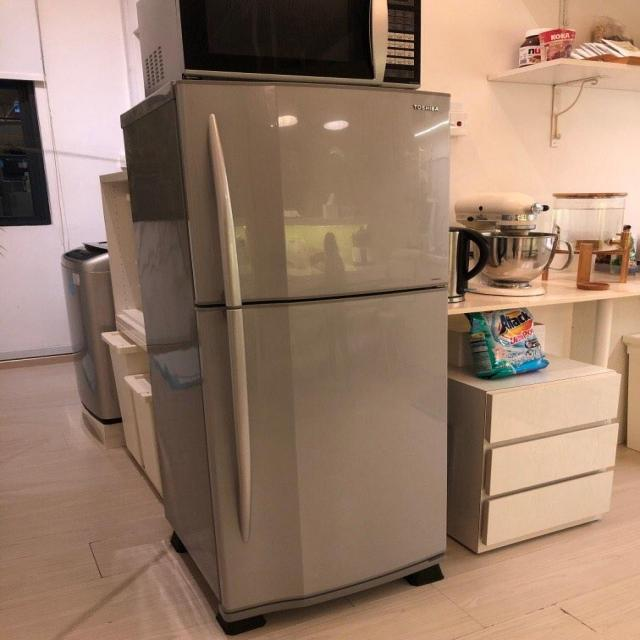refrigerator: (170, 79, 454, 616)
